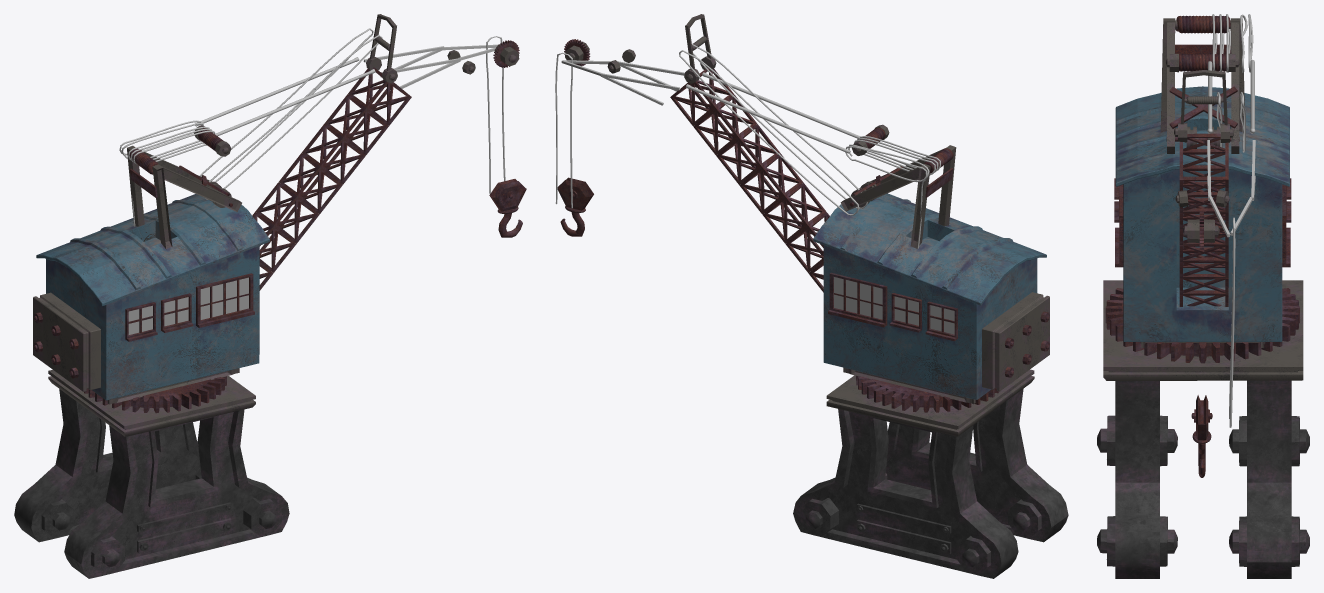
The model's file is RileyCraneFinished.fbx.
The picture shows the model from 3 angles, left to right: view 1: azimuth 30°, elevation 25°; view 2: azimuth 150°, elevation 25°; view 3: azimuth 270°, elevation 25°; orthographic projection. The views are drawn at different scales.
Visible parts, largest first — view 1: pCube52, pCube53, pCube69, pCube56, pCube59, pGear3, pCube54, sideOfScaffolding6, sideOfScaffolding10, sideOfScaffolding7, sideOfScaffolding9, sideOfScaffolding8 (+10 smaller); view 2: pCube52, pCube69, pCube53, pCube56, pCube59, pGear3, pCube54, sideOfScaffolding6, sideOfScaffolding7, sideOfScaffolding10, sideOfScaffolding9, pCube75 (+11 smaller); view 3: pCube52, pCube69, pCube53, pCube59, pGear3, sideOfScaffolding8, pCube54, pCube58, sideOfScaffolding9, pCube55, pHelix4, sideOfScaffolding11 (+19 smaller).
Part boxes in pixels (box(x1,y1,x2,y2)): pCube52: box(36, 194, 269, 400); pCube53: box(64, 409, 289, 578); pCube69: box(14, 389, 201, 542); pCube56: box(33, 292, 100, 391); pCube59: box(48, 369, 255, 436); pGear3: box(84, 376, 226, 413); pCube54: box(127, 145, 172, 249); sideOfScaffolding6: box(255, 182, 319, 243); sideOfScaffolding10: box(301, 123, 365, 184); sideOfScaffolding7: box(279, 153, 342, 213); sideOfScaffolding9: box(324, 94, 388, 155); sideOfScaffolding8: box(348, 67, 411, 125); pCube52: box(813, 193, 1046, 399); pCube69: box(793, 409, 1018, 578); pCube53: box(885, 388, 1068, 542); pCube56: box(982, 292, 1049, 391); pCube59: box(826, 369, 1034, 436); pGear3: box(856, 375, 999, 412); pCube54: box(910, 145, 956, 248); sideOfScaffolding6: box(762, 182, 826, 243); sideOfScaffolding7: box(739, 153, 803, 214); sideOfScaffolding10: box(716, 124, 779, 184); sideOfScaffolding9: box(693, 94, 756, 155); pCube75: box(834, 277, 882, 319); pCube52: box(1115, 86, 1289, 341); pCube69: box(1229, 380, 1309, 578); pCube53: box(1097, 381, 1177, 578); pCube59: box(1103, 280, 1303, 380); pGear3: box(1105, 288, 1299, 363); sideOfScaffolding8: box(1179, 133, 1228, 196); pCube54: box(1160, 18, 1244, 132); pCube58: box(1231, 22, 1239, 153); sideOfScaffolding9: box(1179, 153, 1228, 212); pCube55: box(1167, 22, 1174, 153); pHelix4: box(1175, 15, 1230, 33); sideOfScaffolding11: box(1179, 235, 1228, 294).
Size of the model in its own units: 9.68 by 8.84 by 2.85.
